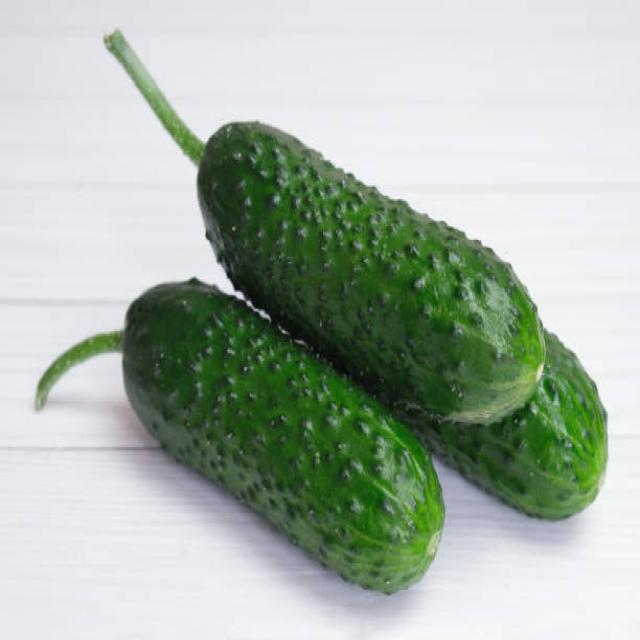cucumber: (196, 119, 546, 432), (120, 276, 446, 596)
